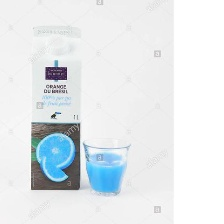carton: (26, 23, 83, 193)
glass: (80, 136, 132, 198)
